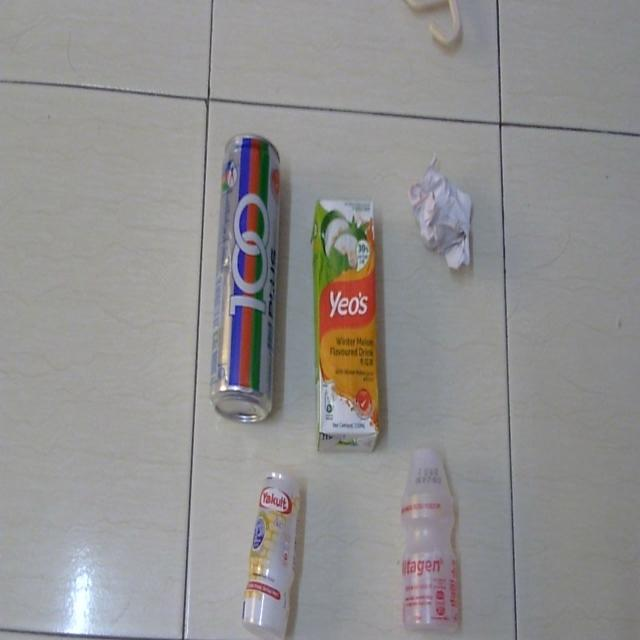metal_laydown_90rotation: (206, 120, 290, 432)
paperrotation: (404, 143, 483, 284)
plastic_laydown_90rotation: (305, 193, 384, 455), (396, 438, 467, 637), (239, 456, 306, 639)
